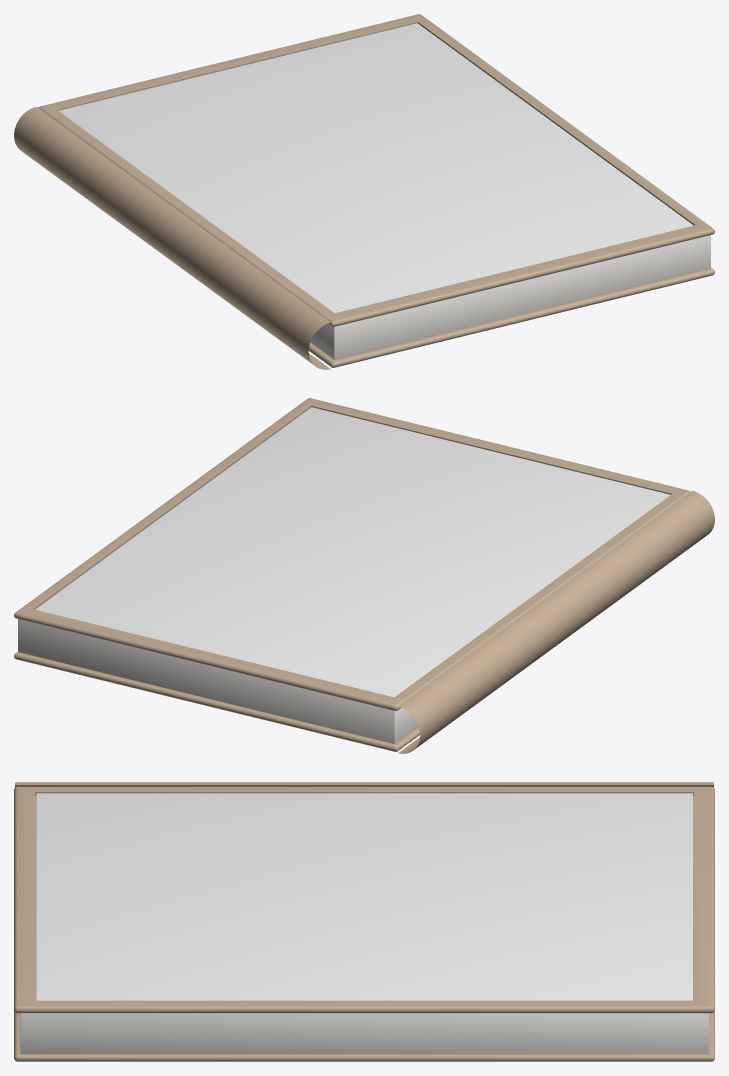
The model's file is photo-full--portrait.glb.
3 views of the same model, one above another, from view 1: azimuth 30°, elevation 25°; view 2: azimuth 150°, elevation 25°; view 3: azimuth 270°, elevation 25° (orthographic). The views are drawn at different scales.
Visible parts, largest first — view 1: Photo, Spine, CoverFront, Pages, CoverBack; view 2: Photo, Spine, CoverFront, Pages, CoverBack; view 3: Photo, Pages, CoverFront, CoverBack, Spine.
Boxes of the visible parts, left/top/right/bottom form: Photo: left=58, top=23, right=693, bottom=313; Spine: left=14, top=106, right=330, bottom=369; CoverFront: left=38, top=14, right=714, bottom=326; Pages: left=310, top=235, right=710, bottom=359; CoverBack: left=308, top=268, right=714, bottom=367; Photo: left=35, top=407, right=670, bottom=697; Spine: left=398, top=490, right=714, bottom=753; CoverFront: left=14, top=398, right=690, bottom=710; Pages: left=18, top=619, right=418, bottom=743; CoverBack: left=14, top=652, right=420, bottom=751; Photo: left=36, top=793, right=692, bottom=1000; Pages: left=20, top=1013, right=708, bottom=1054; CoverFront: left=14, top=786, right=714, bottom=1013; CoverBack: left=14, top=1011, right=714, bottom=1061; Spine: left=15, top=782, right=713, bottom=787.
Size of the model in its own units: 0.3179 by 0.0352 by 0.4.
